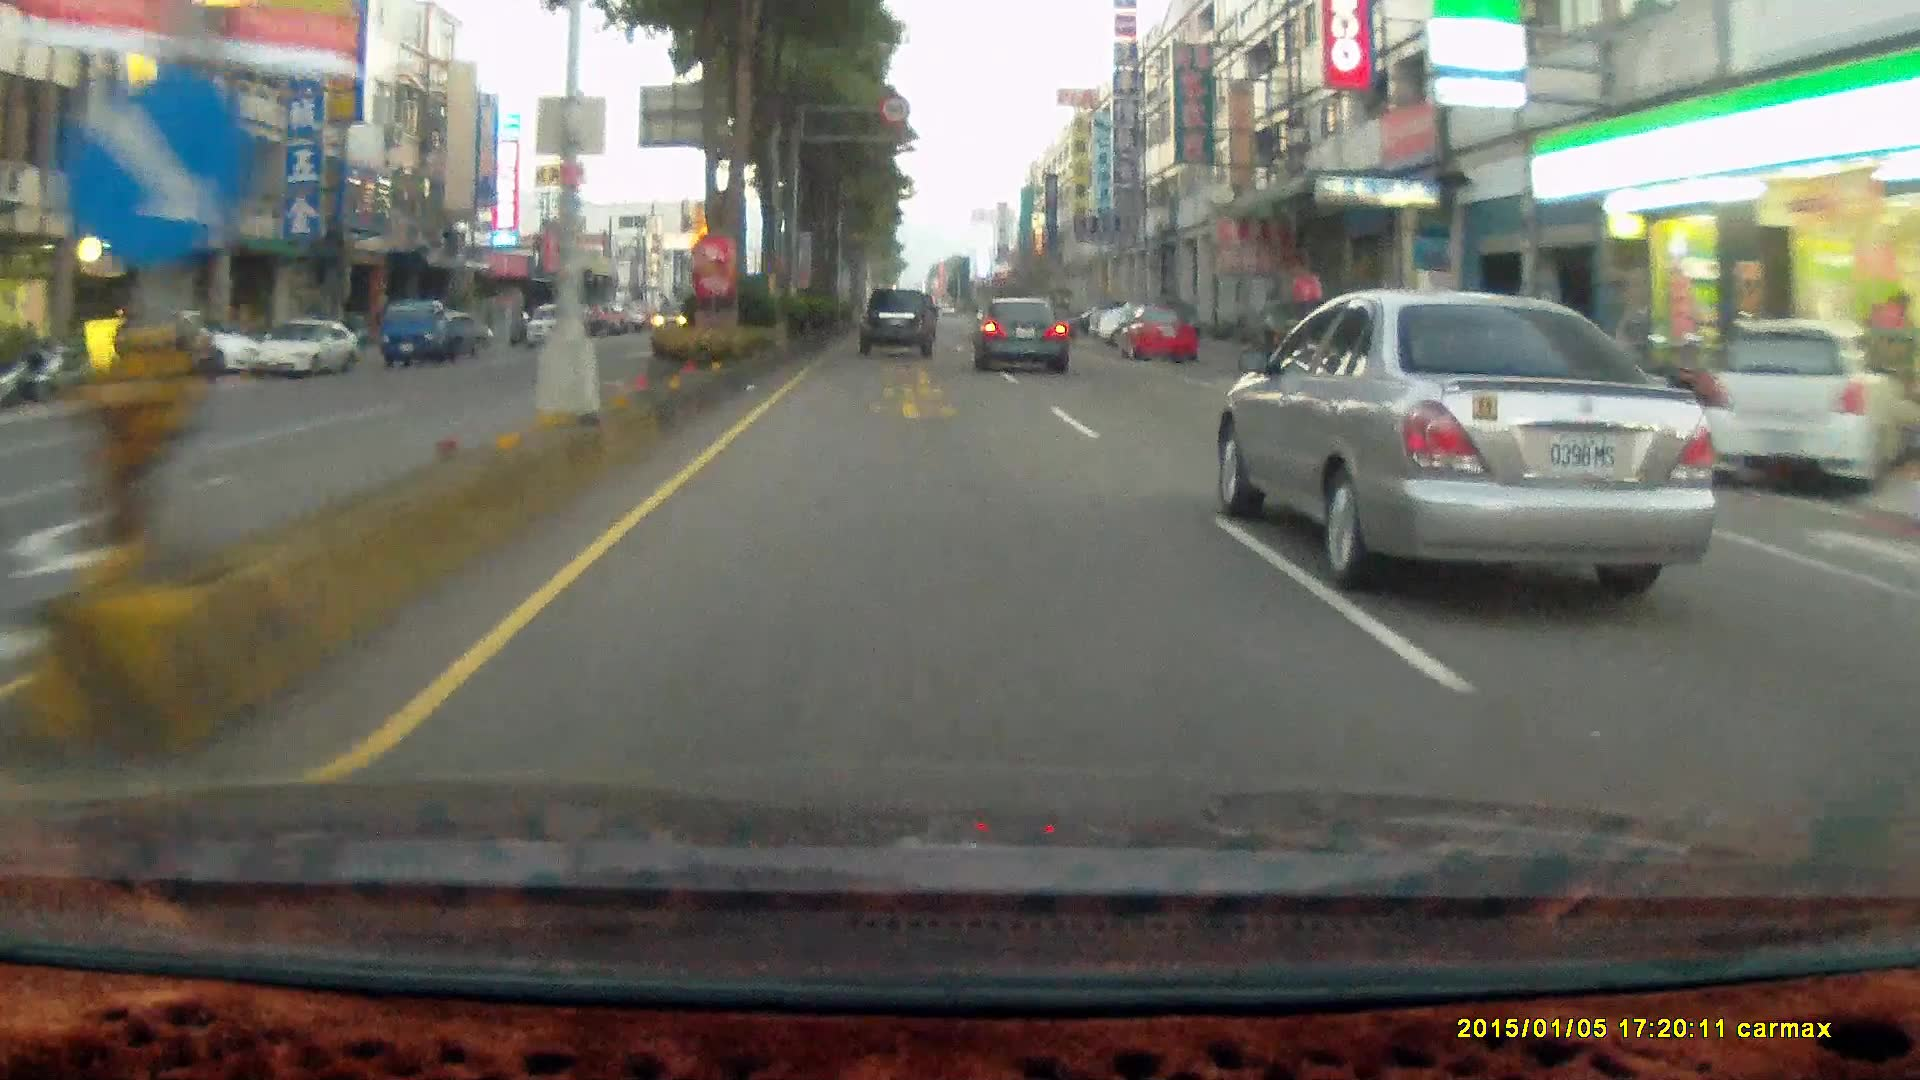pedestrian: (109, 307, 142, 399), (110, 313, 141, 403)
vehicle: (1227, 286, 1727, 580), (1702, 314, 1900, 494), (1703, 320, 1890, 487), (1445, 316, 1644, 449), (1283, 305, 1454, 390), (118, 303, 253, 373), (975, 300, 1072, 380), (971, 295, 1067, 372), (255, 320, 362, 385), (382, 303, 483, 369), (247, 317, 358, 375), (378, 299, 465, 367), (859, 290, 940, 360), (1117, 303, 1205, 367), (1115, 300, 1203, 363), (858, 286, 935, 356), (1089, 297, 1181, 342), (407, 309, 490, 354), (526, 299, 583, 347)
